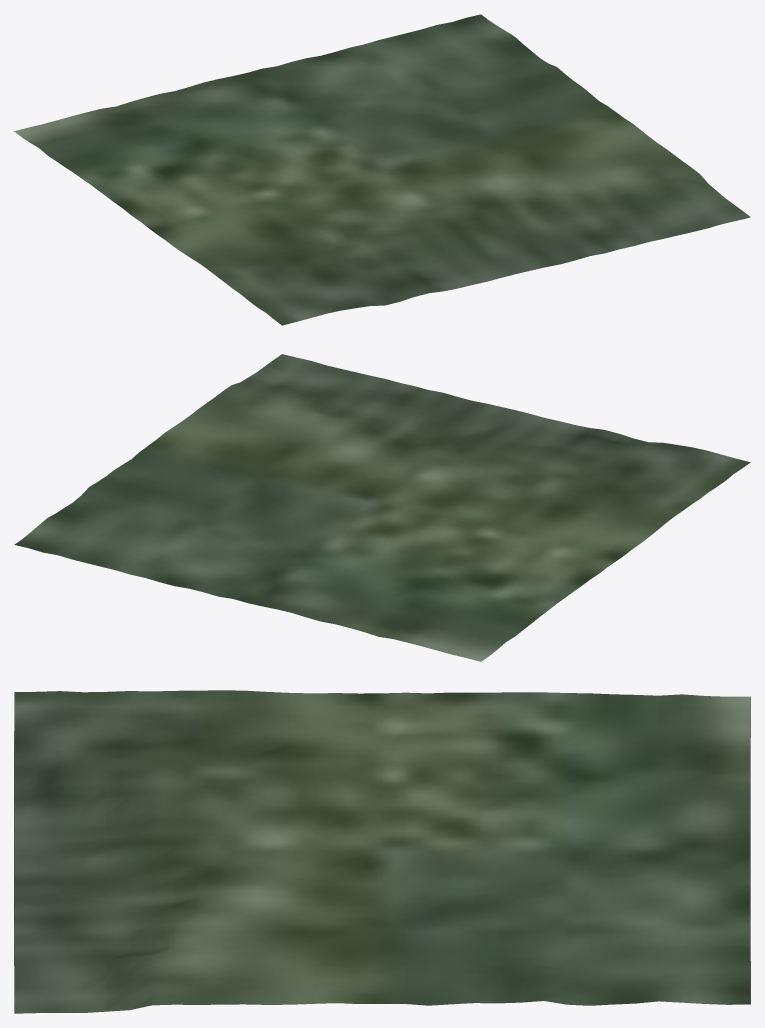
3 views of the same model, one above another, from view 1: azimuth 30°, elevation 25°; view 2: azimuth 150°, elevation 25°; view 3: azimuth 270°, elevation 25° (orthographic). The views are drawn at different scales.
Size of the model in its own units: 31460 by 620 by 31282.
Materials: 1 (1 with a texture image).
